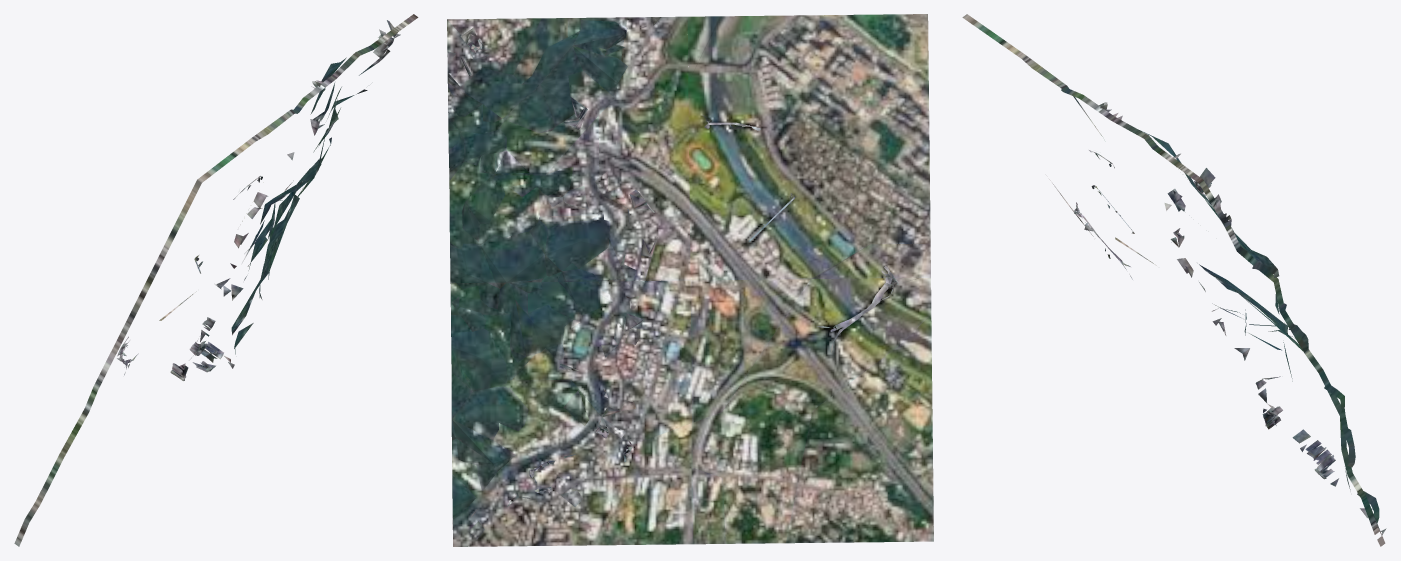
The picture shows the model from 3 angles, left to right: view 1: azimuth 30°, elevation 25°; view 2: azimuth 150°, elevation 25°; view 3: azimuth 270°, elevation 25°; orthographic projection. The views are drawn at different scales.
Size of the model in its own units: 2449 by 2237 by 2064.
1 material, 1 textured.
